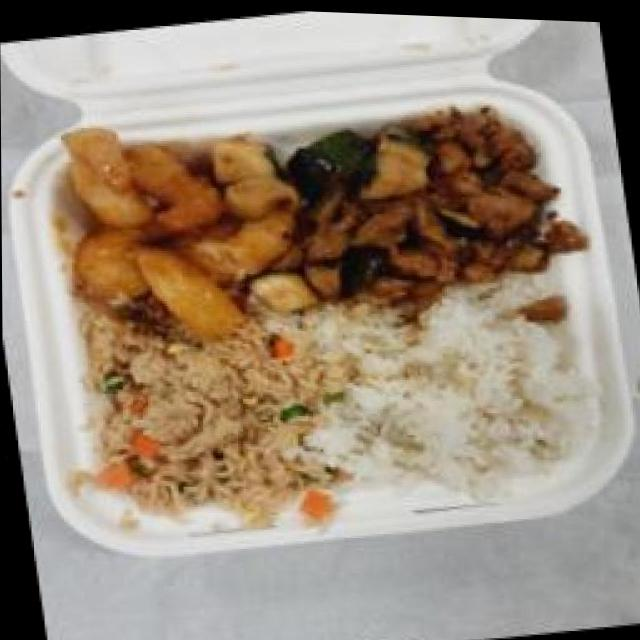Fried Rice: (67, 300, 368, 549)
Honey Walnut Shrimp: (31, 91, 337, 363)
Kung Pao Chicken: (275, 83, 585, 327)
White Steamed Rice: (325, 279, 601, 507)
